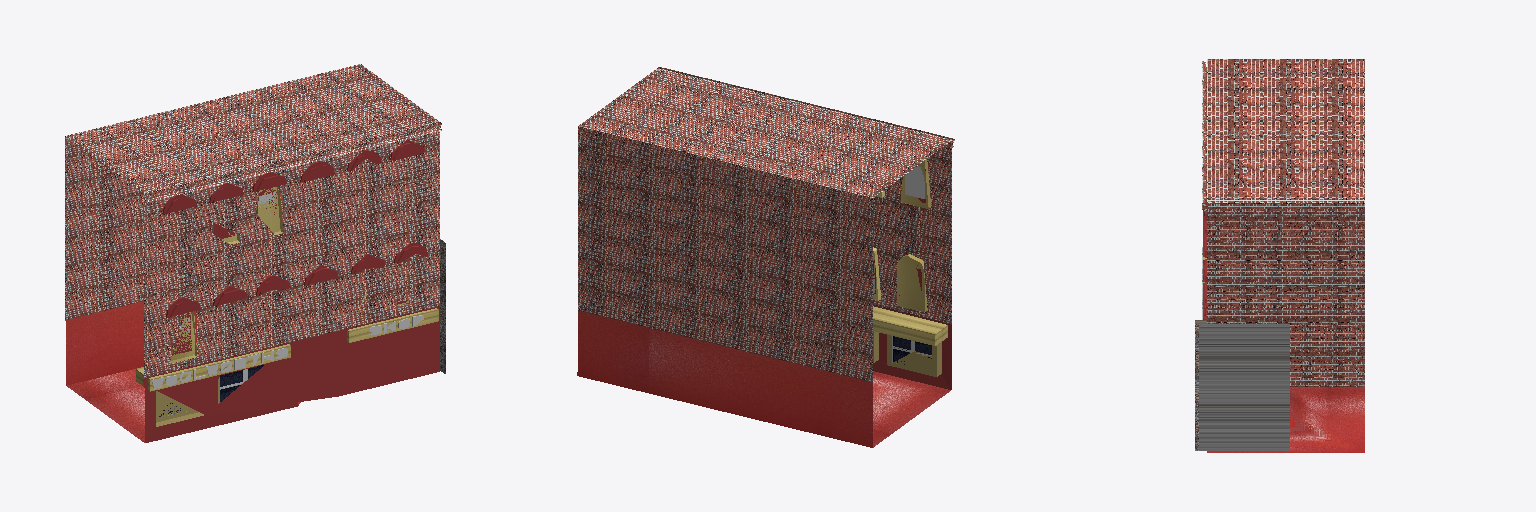
The picture shows the model from 3 angles: view 1: azimuth 30°, elevation 25°; view 2: azimuth 150°, elevation 25°; view 3: azimuth 270°, elevation 25°; orthographic projection.
Parts seen in each view (by area): view 1: Edificio_5.004; view 2: Edificio_5.004; view 3: Edificio_5.004.
Part boxes in pixels (left/top/right/bottom): Edificio_5.004: left=65, top=64, right=445, bottom=442; Edificio_5.004: left=577, top=67, right=954, bottom=447; Edificio_5.004: left=1195, top=59, right=1364, bottom=452.
Size of the model in its own units: 86.22 by 69.62 by 43.01.
Materials: 8 (6 with a texture image).